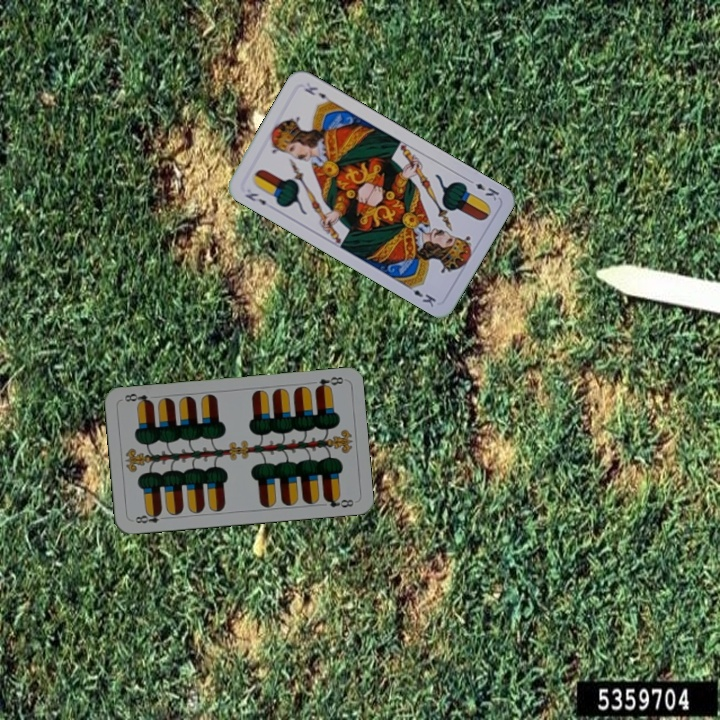E8: (311, 372, 346, 393), (131, 508, 170, 526)
EK: (464, 175, 502, 203), (241, 189, 269, 208)
